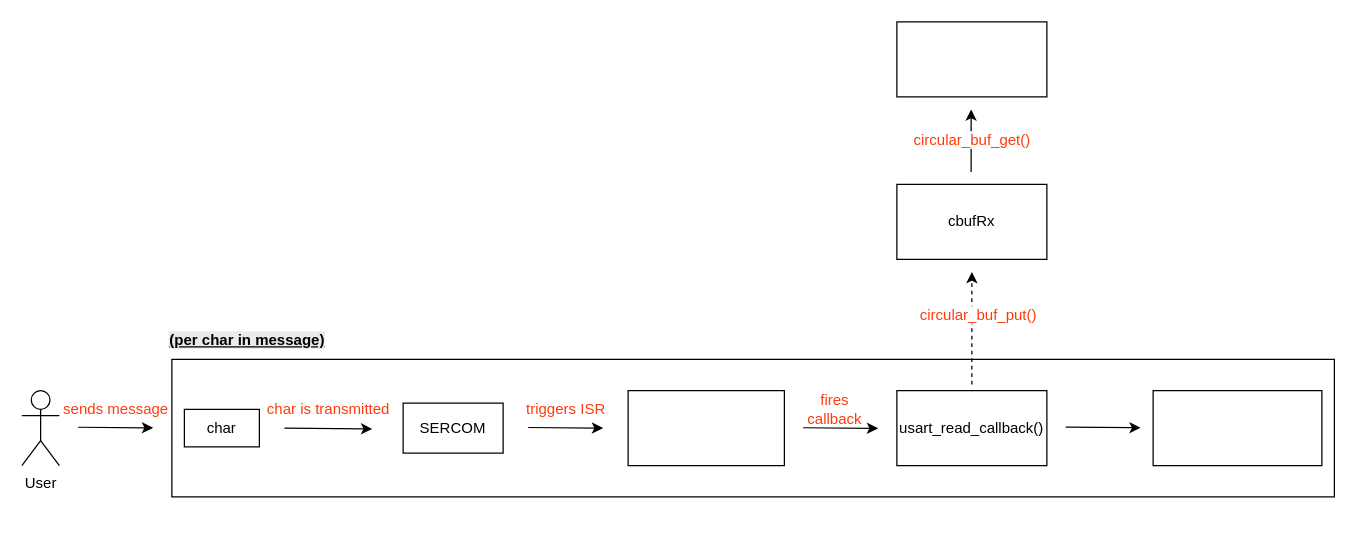
This 1356x533 diagram has some shape labels left out. The centre of each missing label's shape, as x and y in pixels:
"CliThread.c" goes at point 971,59.
"USART_CALLBACK_ BUFFER_RECEIVED" goes at point 705,427.
"usart_read_buffer_job()" goes at point 1237,427.
